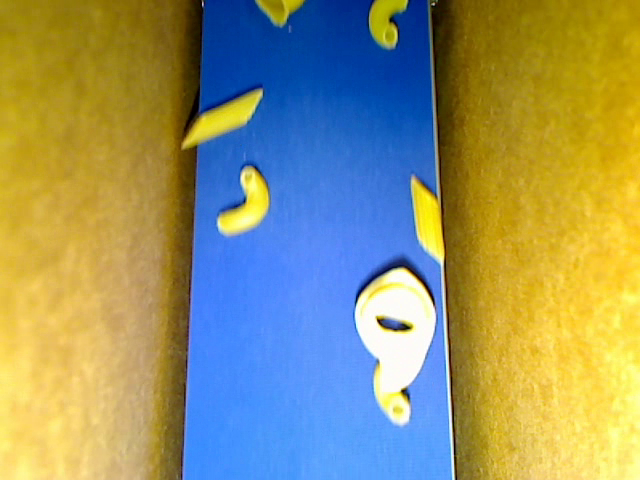elbow: (216, 165, 269, 237), (374, 364, 410, 425), (369, 1, 408, 50)
penne: (180, 88, 264, 149), (410, 172, 445, 263)
shell: (255, 1, 304, 29)
tortellini: (354, 268, 436, 395)
